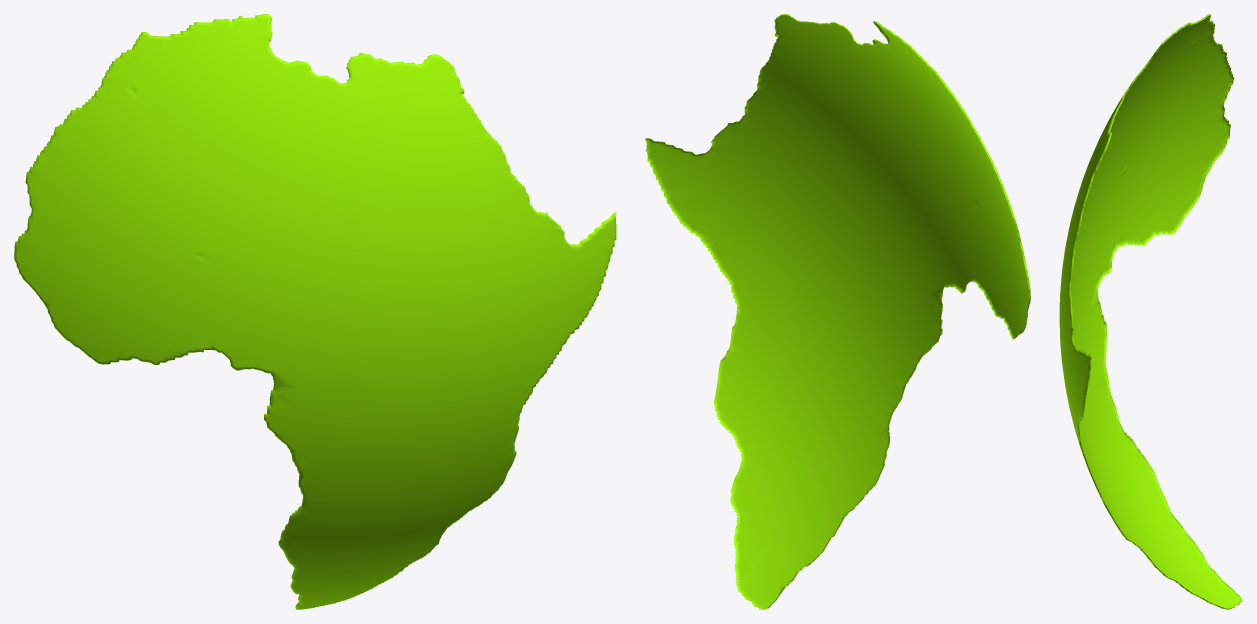
File: Africa.fbx
3 renders of one model, left to right at view 1: azimuth 30°, elevation 25°; view 2: azimuth 150°, elevation 25°; view 3: azimuth 270°, elevation 25°, orthographic. The views are drawn at different scales.
Visible parts, largest first — view 1: Africa; view 2: Africa; view 3: Africa.
Part boxes in pixels (x1,y1,x2,y2): Africa: (14,14,616,609); Africa: (645,14,1030,609); Africa: (1059,14,1242,609).
Bounding box in the file's own units: 6905 × 8258 × 2594.
